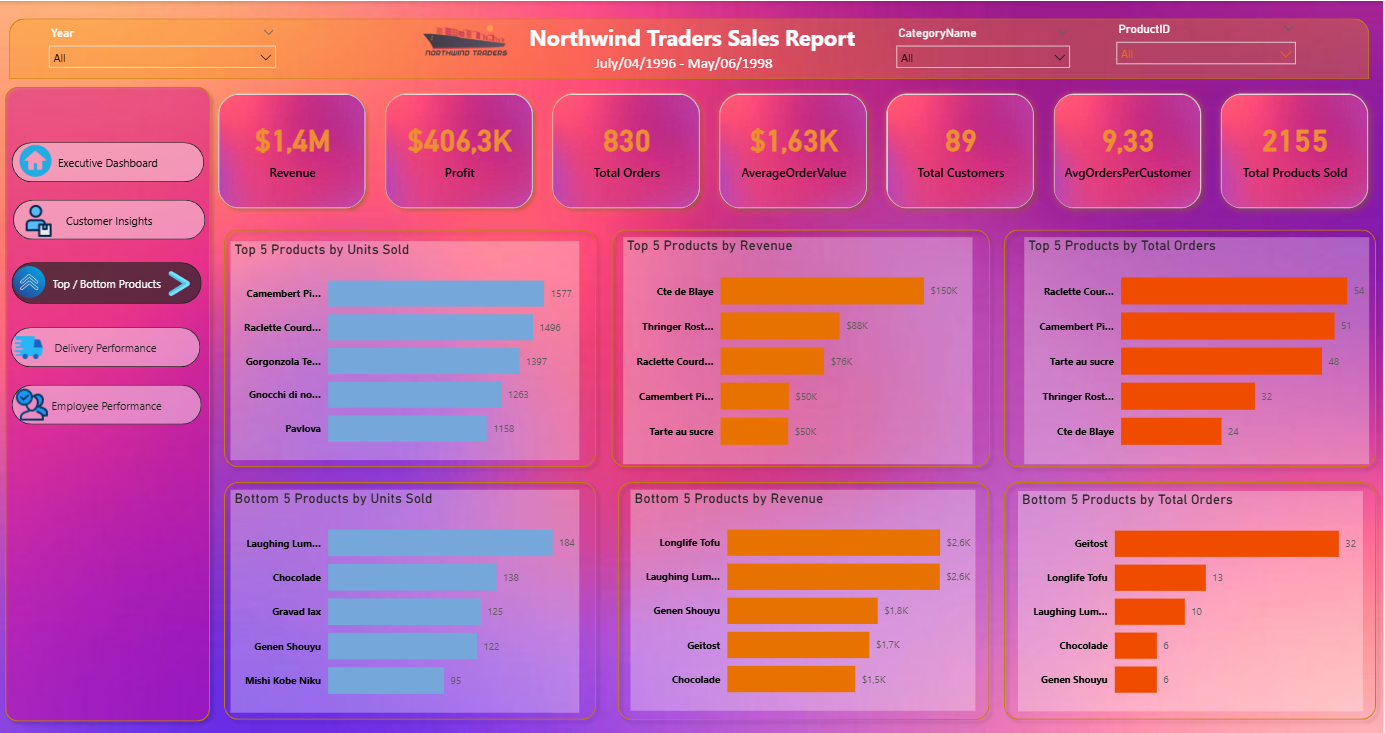

The page's visual inventory and layout, read from the dashboard file:
{"tool":"powerbi","page":{"name":"Top / Bottom Products","canvas":[1700,900],"ordinal":2},"visuals":[{"type":"cardVisual","fields":{"Data":["Measures_table.Revenue","Measures_table.Profit","Measures_table.OrderCount","Measures_table.AverageOrderValue","Measures_table.Total Customers","Measures_table.Avg Orders per customer","Measures_table.Total Products Sold"]},"box":[253.5,96.4,1446.1,175.7],"z":0},{"type":"shape","box":[14,21.8,1668.5,74.6],"z":1000},{"type":"textbox","box":[539.6,21.8,623.5,49.8],"z":2000},{"type":"textbox","box":[603.3,59.1,477.4,37.3],"z":3000},{"type":"image","box":[503.8,6.2,138.4,79.3],"z":4000},{"type":"shape","box":[269,272.1,474.3,309.4],"z":5000},{"type":"shape","box":[0,96.4,269,796.1],"z":6000},{"type":"slicer","fields":{"Values":["categories.CategoryName"]},"box":[1091.6,26.4,233.2,63.8],"z":7000},{"type":"slicer","fields":{"Values":["products.ProductID"]},"box":[1361.4,21.9,240.6,69.3],"z":8000},{"type":"shape","box":[743.3,272.1,482,309.4],"z":9000},{"type":"shape","box":[269,581.6,474.3,309.4],"z":10000},{"type":"shape","box":[1225.3,581.6,474.3,309.4],"z":11000},{"type":"clusteredBarChart","title":"Top 5 Products by Units Sold","fields":{"Category":["products.ProductName"],"Y":["Measures_table.Total Quantity"]},"box":[284.6,293.9,427.6,269],"z":12000},{"type":"clusteredBarChart","title":"Top 5 Products by Revenue","fields":{"Category":["products.ProductName"],"Y":["Measures_table.Revenue"]},"box":[766.6,289.2,429.2,278.3],"z":13000},{"type":"clusteredBarChart","title":"Bottom 5 Products by Units Sold","fields":{"Category":["products.ProductName"],"Y":["Measures_table.Total Quantity"]},"box":[284.6,600.2,427.6,273.7],"z":14000},{"type":"shape","box":[1225.3,272.1,474.3,309.4],"z":15000},{"type":"clusteredBarChart","title":"Top 5 Products by Total Orders","fields":{"Category":["products.ProductName"],"Y":["Measures_table.Total Orders"]},"box":[1259.5,289.2,422.9,278.3],"z":16000},{"type":"shape","box":[750.9,581.4,473.8,309.8],"z":17000},{"type":"clusteredBarChart","title":"Bottom 5 Products by  Total Orders","fields":{"Category":["products.ProductName"],"Y":["Measures_table.Total Orders"]},"box":[1251.7,601.8,422.9,270.6],"z":18000},{"type":"clusteredBarChart","title":"Bottom 5 Products by Revenue","fields":{"Category":["products.ProductName"],"Y":["Measures_table.Revenue"]},"box":[776.4,599.6,422.8,271.5],"z":19000},{"type":"pageNavigator","box":[17.1,172.6,236.4,49.8],"z":20000},{"type":"pageNavigator","box":[16.4,320.8,233.3,51],"z":21000},{"type":"slicer","fields":{"Values":["Dates.Date.Variation.Date Hierarchy.Year"]},"box":[52.9,25.5,298.9,65.6],"z":22000},{"type":"image","box":[202.3,326.2,40.1,40.1],"z":30000},{"type":"image","box":[10.9,320.8,54.7,49.2],"z":31000},{"type":"image","box":[18.2,171.3,54.7,49.2],"z":32000},{"type":"pageNavigator","box":[14.6,400.9,233.3,49.2],"z":33000},{"type":"image","box":[9.1,400.9,56.5,49.2],"z":34000},{"type":"pageNavigator","box":[16.4,470.2,233.3,49.2],"z":35000},{"type":"image","box":[10.9,470.2,62,49.2],"z":36000},{"type":"pageNavigator","box":[18.2,244.2,236.9,49.2],"z":37000},{"type":"image","box":[21.9,246,56.5,49.2],"z":38000}]}

Visuals, with their boxes in screenshot pixels (x1, y1, x2, y2), scaled from the page's 1700x900 canvas onto the 1385x733 screenshot:
cardVisual - Measures_table.Revenue x Measures_table.Profit: x1=207 y1=79 x2=1384 y2=222
shape: x1=11 y1=18 x2=1371 y2=79
textbox: x1=440 y1=18 x2=948 y2=58
textbox: x1=492 y1=48 x2=880 y2=79
image: x1=410 y1=5 x2=523 y2=70
shape: x1=219 y1=222 x2=606 y2=474
shape: x1=0 y1=79 x2=219 y2=727
slicer - categories.CategoryName: x1=889 y1=22 x2=1079 y2=73
slicer - products.ProductID: x1=1109 y1=18 x2=1305 y2=74
shape: x1=606 y1=222 x2=998 y2=474
shape: x1=219 y1=474 x2=606 y2=726
shape: x1=998 y1=474 x2=1384 y2=726
"Top 5 Products by Units Sold" clusteredBarChart: x1=232 y1=239 x2=580 y2=458
"Top 5 Products by Revenue" clusteredBarChart: x1=625 y1=236 x2=974 y2=462
"Bottom 5 Products by Units Sold" clusteredBarChart: x1=232 y1=489 x2=580 y2=712
shape: x1=998 y1=222 x2=1384 y2=474
"Top 5 Products by Total Orders" clusteredBarChart: x1=1026 y1=236 x2=1371 y2=462
shape: x1=612 y1=474 x2=998 y2=726
"Bottom 5 Products by  Total Orders" clusteredBarChart: x1=1020 y1=490 x2=1364 y2=711
"Bottom 5 Products by Revenue" clusteredBarChart: x1=633 y1=488 x2=977 y2=709
pageNavigator: x1=14 y1=141 x2=207 y2=181
pageNavigator: x1=13 y1=261 x2=203 y2=303
slicer - Dates.Date.Variation.Date Hierarchy.Year: x1=43 y1=21 x2=287 y2=74
image: x1=165 y1=266 x2=197 y2=298
image: x1=9 y1=261 x2=53 y2=301
image: x1=15 y1=140 x2=59 y2=180
pageNavigator: x1=12 y1=327 x2=202 y2=367
image: x1=7 y1=327 x2=53 y2=367
pageNavigator: x1=13 y1=383 x2=203 y2=423
image: x1=9 y1=383 x2=59 y2=423
pageNavigator: x1=15 y1=199 x2=208 y2=239
image: x1=18 y1=200 x2=64 y2=240
